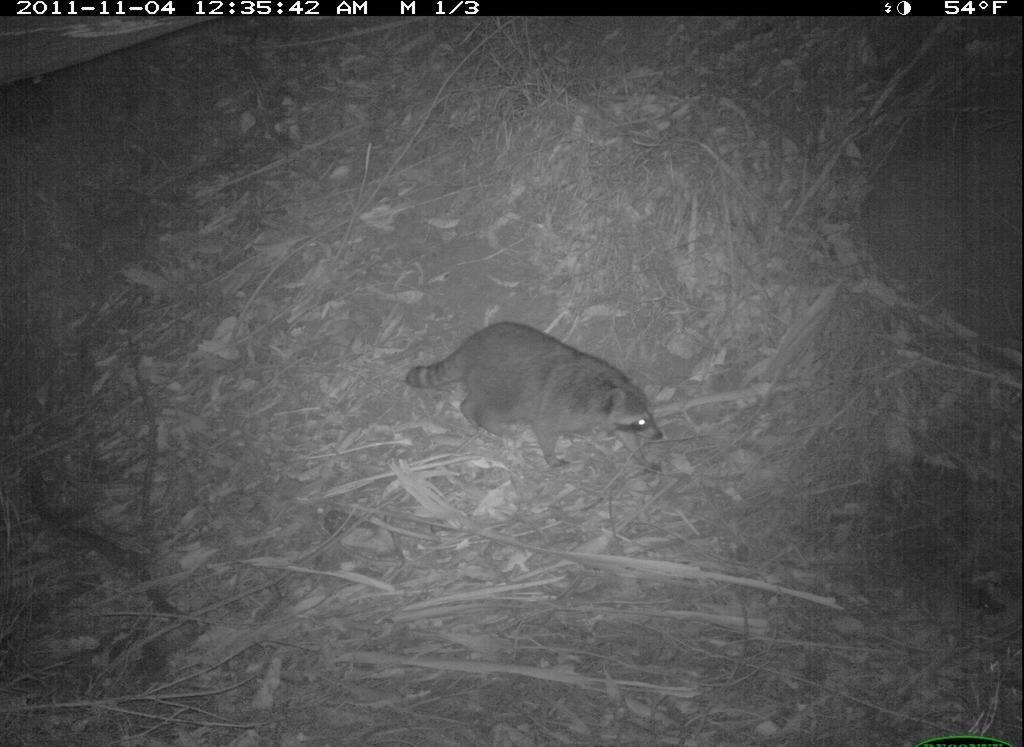raccoon: (402, 315, 674, 495)
